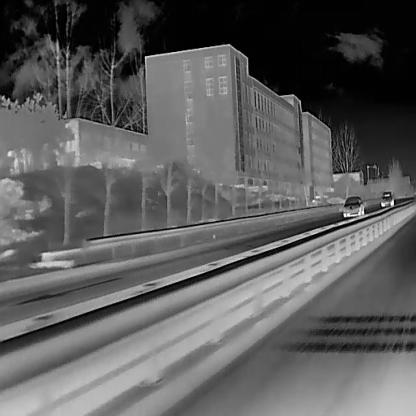car: (341, 194, 364, 217)
truck: (379, 190, 393, 206)
